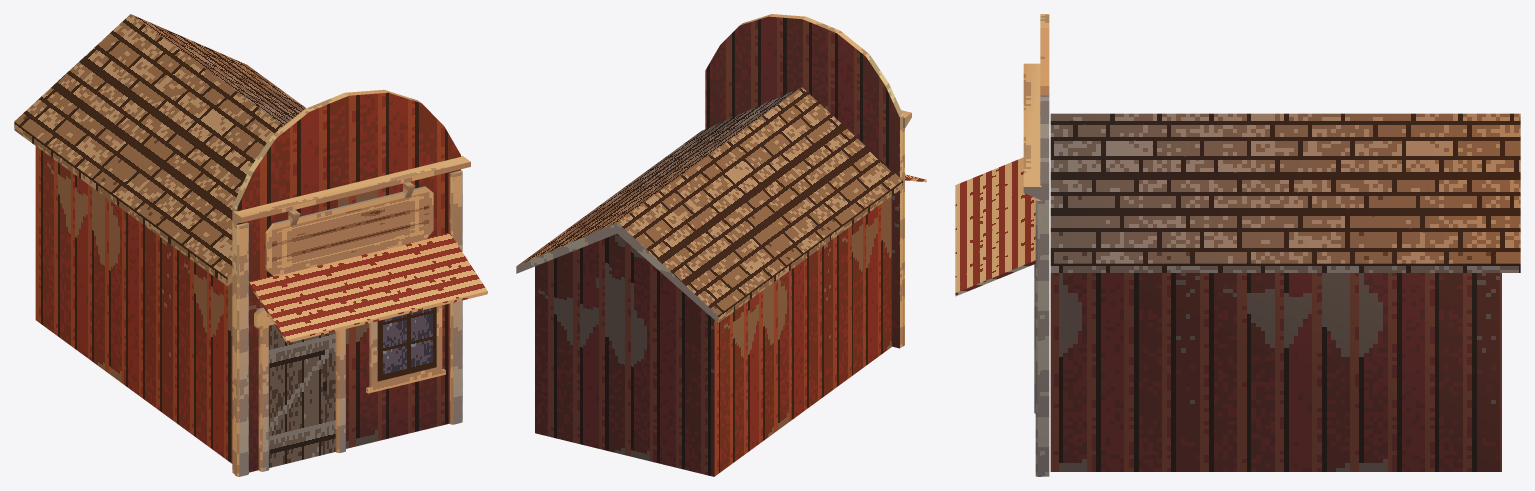
File: wtown.facade__c_arched.glb
3 views of the same model, side by side, from view 1: azimuth 30°, elevation 25°; view 2: azimuth 150°, elevation 25°; view 3: azimuth 270°, elevation 25° (orthographic). The views are drawn at different scales.
Visible parts, largest first — view 1: kit_roof, kit_body, kit_front, kit_card_panes, kit_trim, kit_awning, kit_windows; view 2: kit_body, kit_roof, kit_front, kit_trim; view 3: kit_body, kit_roof, kit_awning, kit_trim, kit_front.
Boxes of the visible parts, bbox=[...] form: kit_roof: bbox=[14, 14, 306, 285]; kit_body: bbox=[35, 146, 232, 463]; kit_front: bbox=[232, 89, 460, 474]; kit_card_panes: bbox=[269, 192, 436, 467]; kit_trim: bbox=[233, 156, 470, 476]; kit_awning: bbox=[249, 232, 487, 343]; kit_windows: bbox=[366, 305, 445, 393]; kit_body: bbox=[535, 196, 891, 476]; kit_roof: bbox=[516, 87, 902, 322]; kit_front: bbox=[705, 14, 903, 348]; kit_trim: bbox=[901, 110, 911, 346]; kit_body: bbox=[1050, 273, 1501, 471]; kit_roof: bbox=[1050, 113, 1520, 272]; kit_awning: bbox=[955, 157, 1035, 296]; kit_trim: bbox=[1023, 63, 1041, 476]; kit_front: bbox=[1040, 14, 1049, 476].
Size of the model in its own units: 3.94 by 5.7 by 7.52.
Materials: 7 (7 with a texture image).
